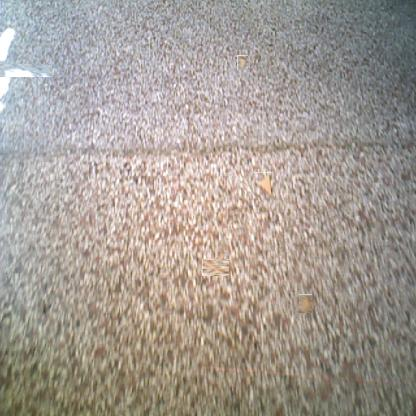dirty: (0, 44, 33, 96), (205, 256, 227, 279), (253, 172, 273, 197), (297, 296, 314, 312), (236, 56, 249, 69)
